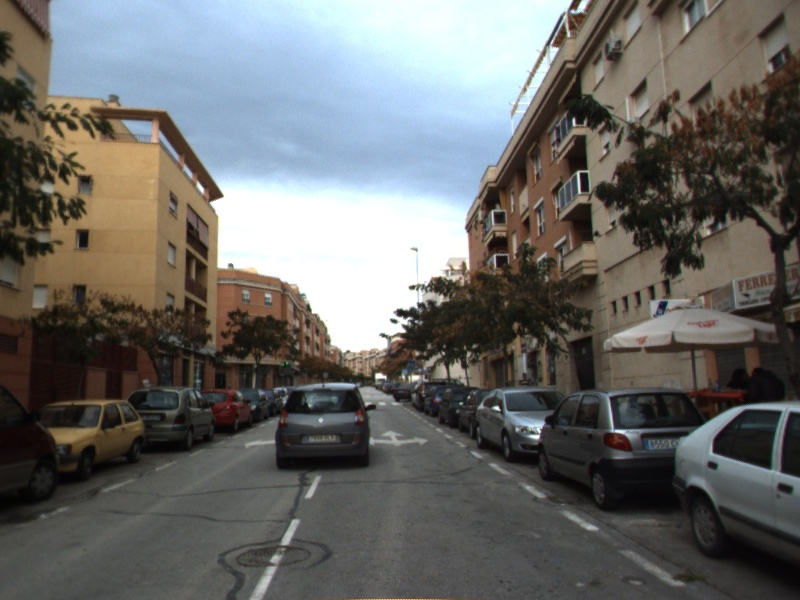STRAIGHT_LEFT_RIGHT: (369, 428, 431, 449)
